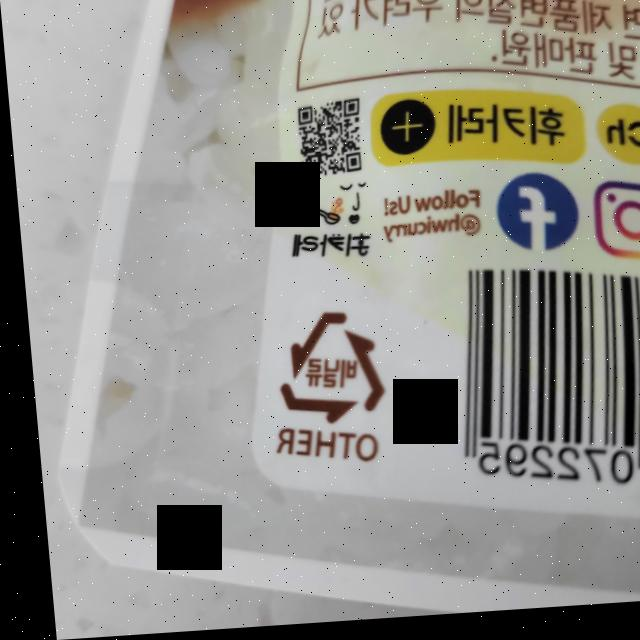Vinyl: (264, 309, 384, 429)
